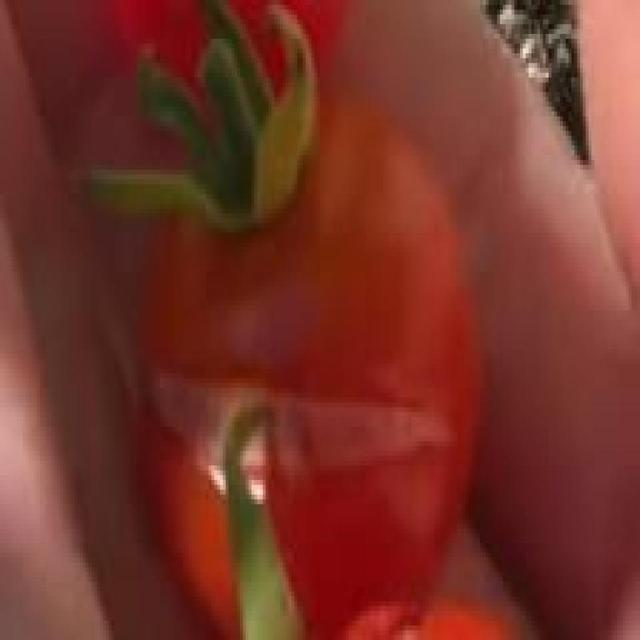Cracking Fruit: (95, 225, 305, 329)
